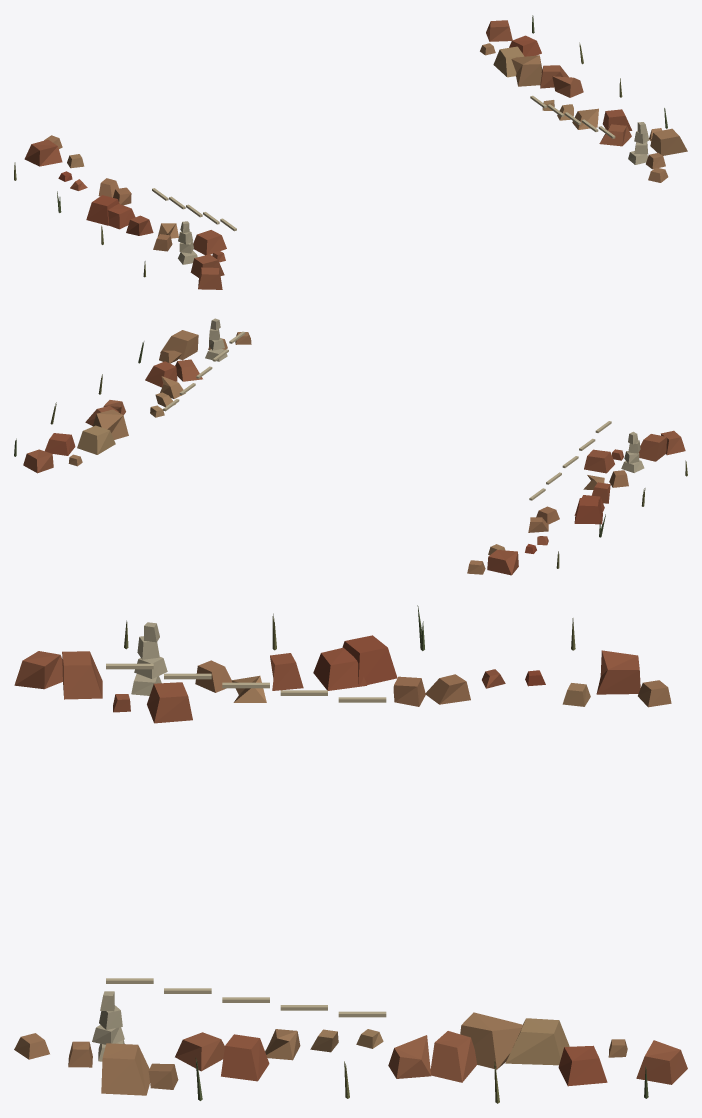
File: mesa_lip_kicker_detail1.glb
3 renders of one model, top to bottom at view 1: azimuth 30°, elevation 25°; view 2: azimuth 150°, elevation 25°; view 3: azimuth 270°, elevation 25°, orthographic. The views are drawn at different scales.
Parts seen in each view (by area): view 1: mesa_lip_kicker_detail1; view 2: mesa_lip_kicker_detail1; view 3: mesa_lip_kicker_detail1.
Part boxes in pixels (box(x1,y1,x2,y2)): mesa_lip_kicker_detail1: box(14, 15, 687, 289); mesa_lip_kicker_detail1: box(14, 318, 687, 575); mesa_lip_kicker_detail1: box(14, 605, 687, 1103).
Bounding box in the file's own units: 20.47 × 1.33 × 12.74.
